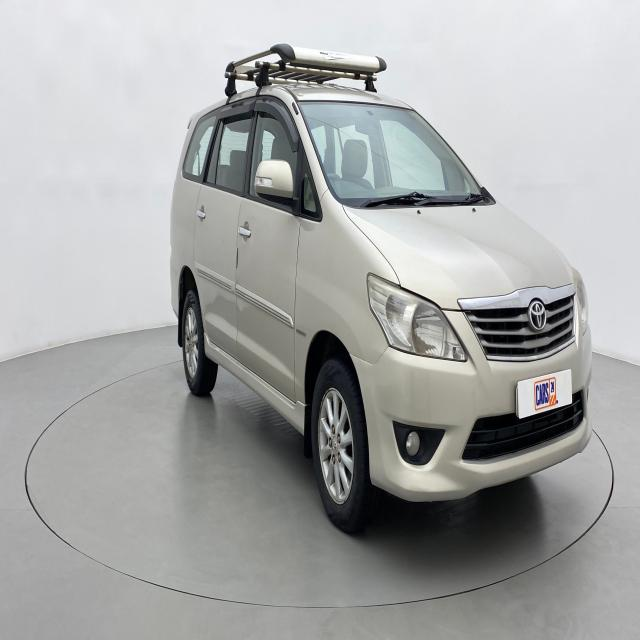light_vehicle: (167, 48, 594, 536)
